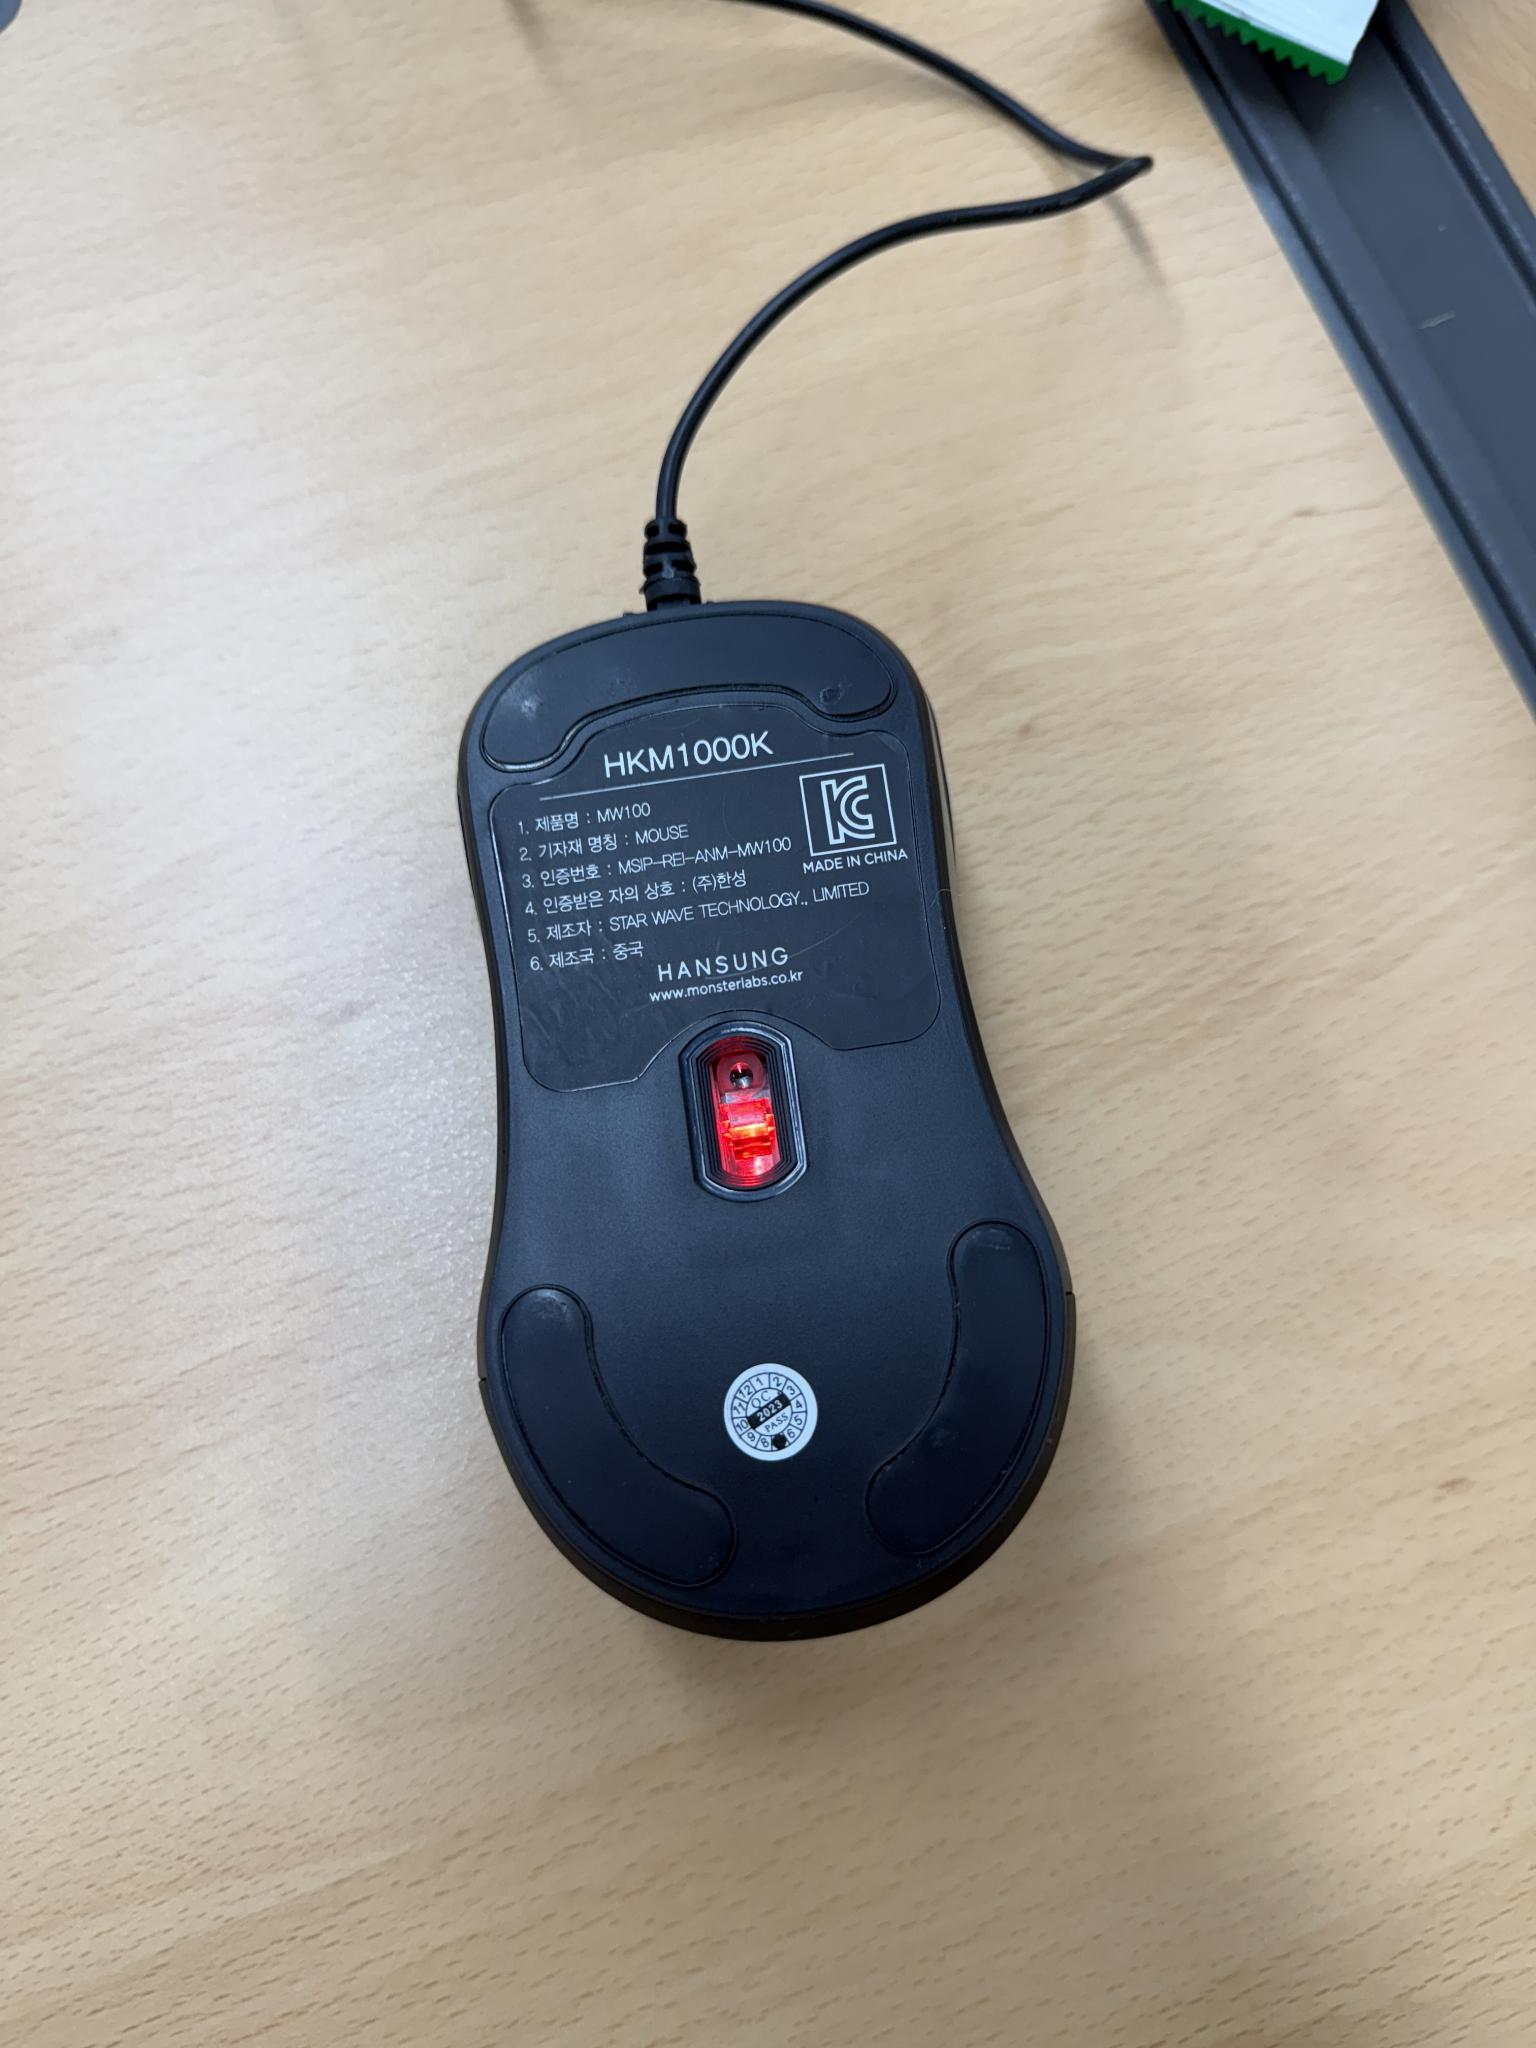back: (447, 592, 1079, 1648)
